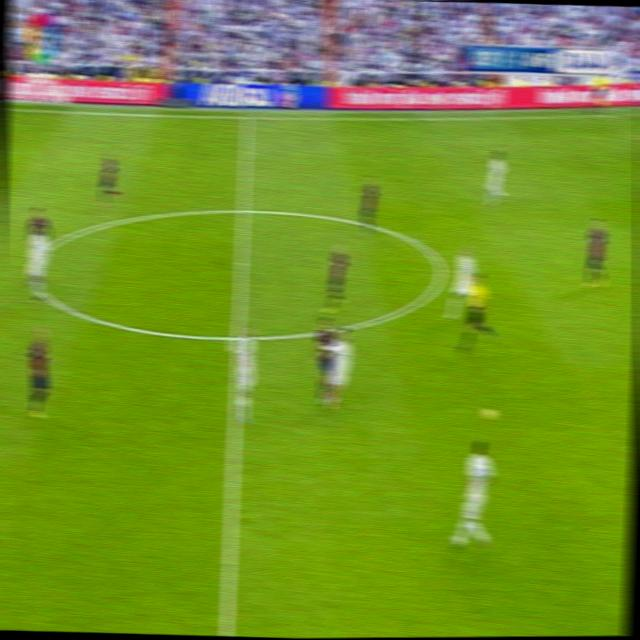halfcircle_bottom: (228, 321, 247, 350)
halfcircle_top: (234, 196, 252, 223)
midline_bottom_intersection: (228, 321, 247, 350)
midline_top_intersection: (240, 109, 254, 125)
